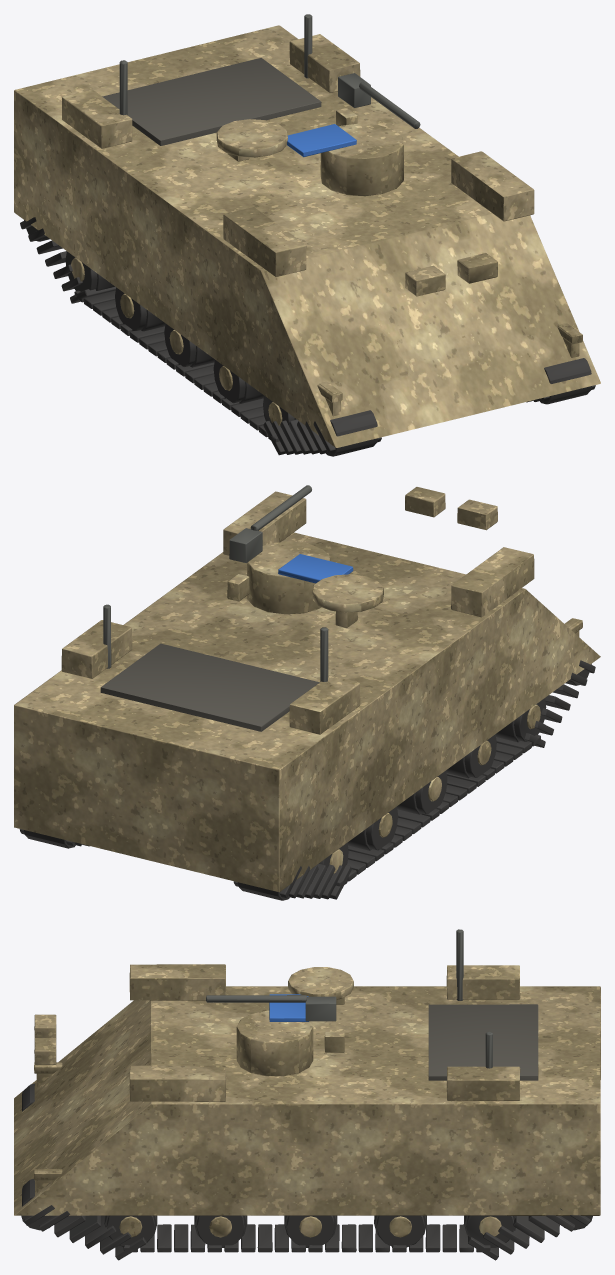
File: afv_e4_us_apc_LOD1.glb
3 renders of one model, top to bottom at view 1: azimuth 30°, elevation 25°; view 2: azimuth 150°, elevation 25°; view 3: azimuth 270°, elevation 25°, orthographic. The views are drawn at different scales.
Visible parts, largest first — view 1: afv_e4_us_apc_LOD1_body, afv_e4_us_apc_LOD1_track, afv_e4_us_apc_LOD1_deck, afv_e4_us_apc_LOD1_gun, afv_e4_us_apc_LOD1_team; view 2: afv_e4_us_apc_LOD1_body, afv_e4_us_apc_LOD1_track, afv_e4_us_apc_LOD1_deck, afv_e4_us_apc_LOD1_gun, afv_e4_us_apc_LOD1_team; view 3: afv_e4_us_apc_LOD1_body, afv_e4_us_apc_LOD1_track, afv_e4_us_apc_LOD1_deck, afv_e4_us_apc_LOD1_gun, afv_e4_us_apc_LOD1_team.
Boxes of the visible parts, x1,y1,x2,y2 form: afv_e4_us_apc_LOD1_body: (14,25,600,447); afv_e4_us_apc_LOD1_track: (20,217,595,456); afv_e4_us_apc_LOD1_deck: (102,58,321,145); afv_e4_us_apc_LOD1_gun: (119,14,420,128); afv_e4_us_apc_LOD1_team: (287,124,356,157); afv_e4_us_apc_LOD1_body: (14,487,600,892); afv_e4_us_apc_LOD1_track: (19,660,595,900); afv_e4_us_apc_LOD1_deck: (100,643,319,731); afv_e4_us_apc_LOD1_gun: (103,485,328,681); afv_e4_us_apc_LOD1_team: (278,554,353,583); afv_e4_us_apc_LOD1_body: (14,964,600,1237); afv_e4_us_apc_LOD1_track: (21,1083,592,1260); afv_e4_us_apc_LOD1_deck: (428,1004,538,1080); afv_e4_us_apc_LOD1_gun: (206,929,492,1068); afv_e4_us_apc_LOD1_team: (269,994,308,1021).
Bounding box in the file's own units: 3.05 × 2.77 × 6.39.
Materials: 5 (1 with a texture image).
